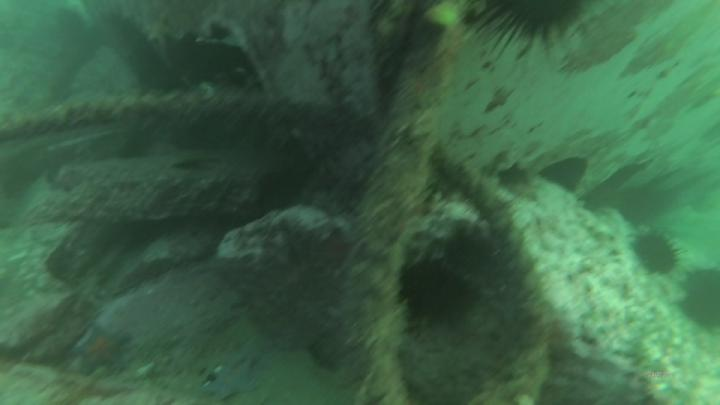echinus: (400, 260, 480, 332), (634, 227, 681, 283)
starfish: (67, 319, 133, 379)
